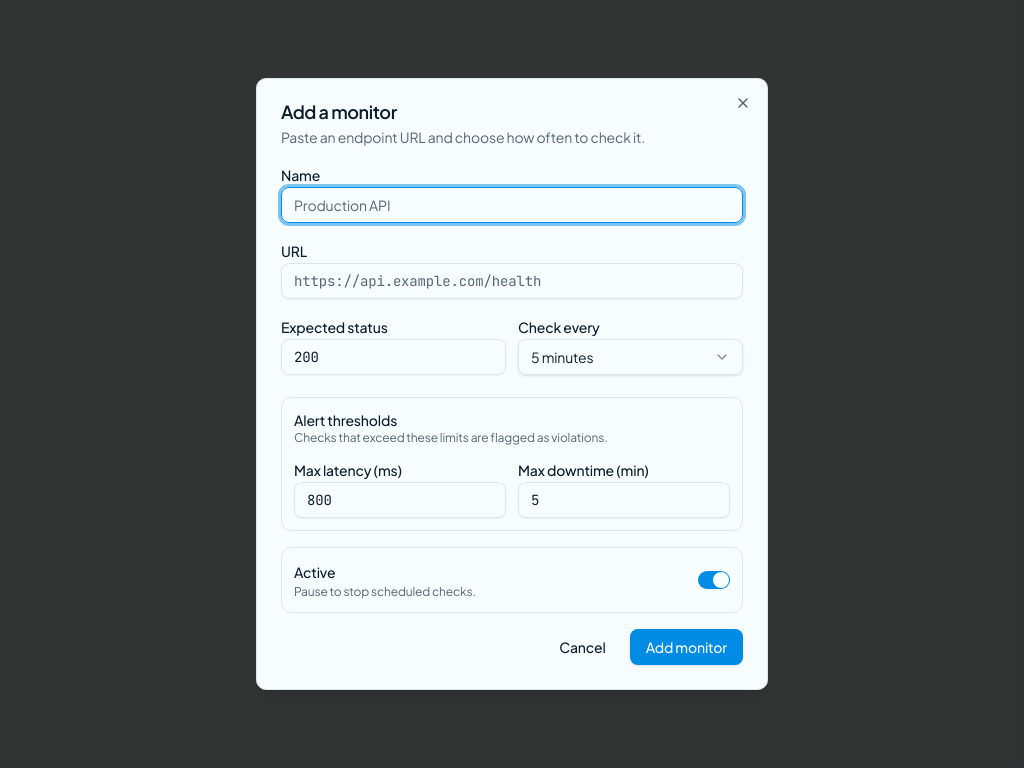
Test case: AddEditMonitorModal › shows validation error when URL is invalid
// Fill name but use an invalid URL
Type "My Monitor" into the field labelled "Name" at (512, 205), box [281,187,743,223]
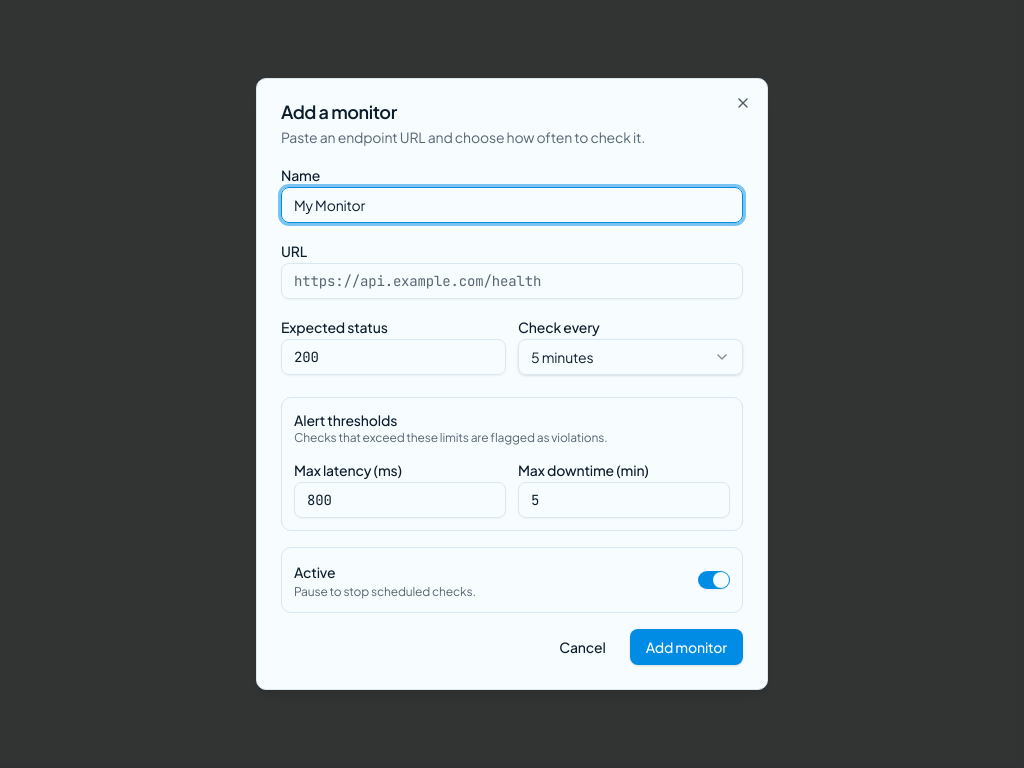
Type "not-a-valid-url" into the field labelled "URL" at (512, 281), box [281,263,743,299]
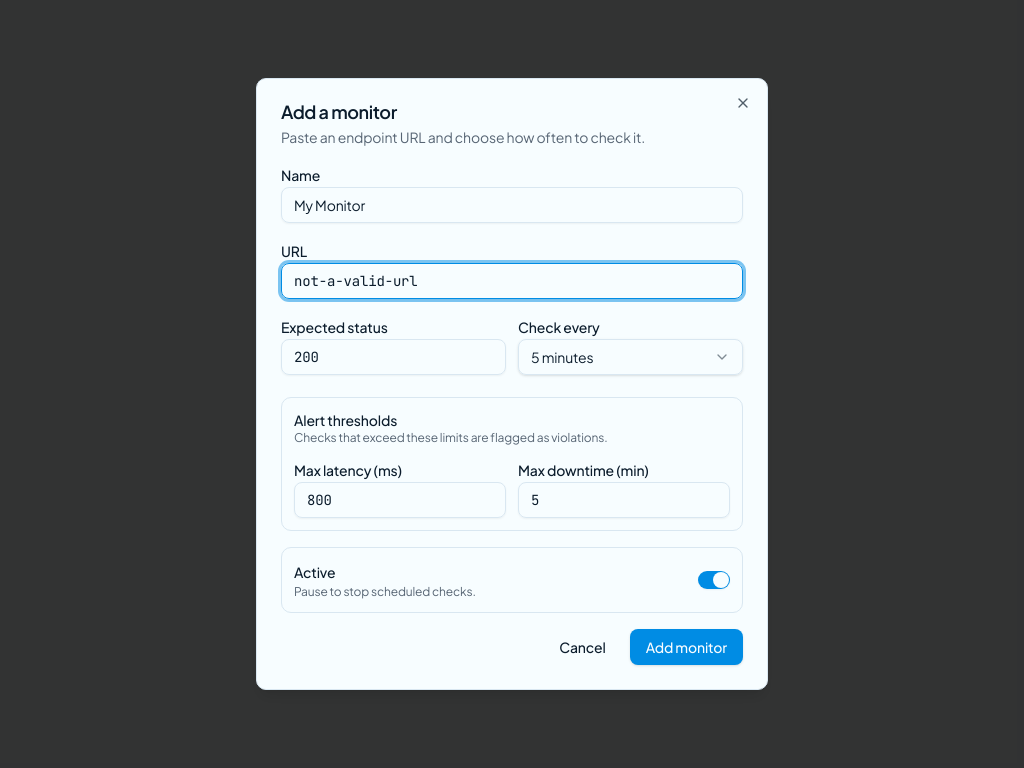
Click the button "Add monitor" at (686, 647), box [630,629,743,665]
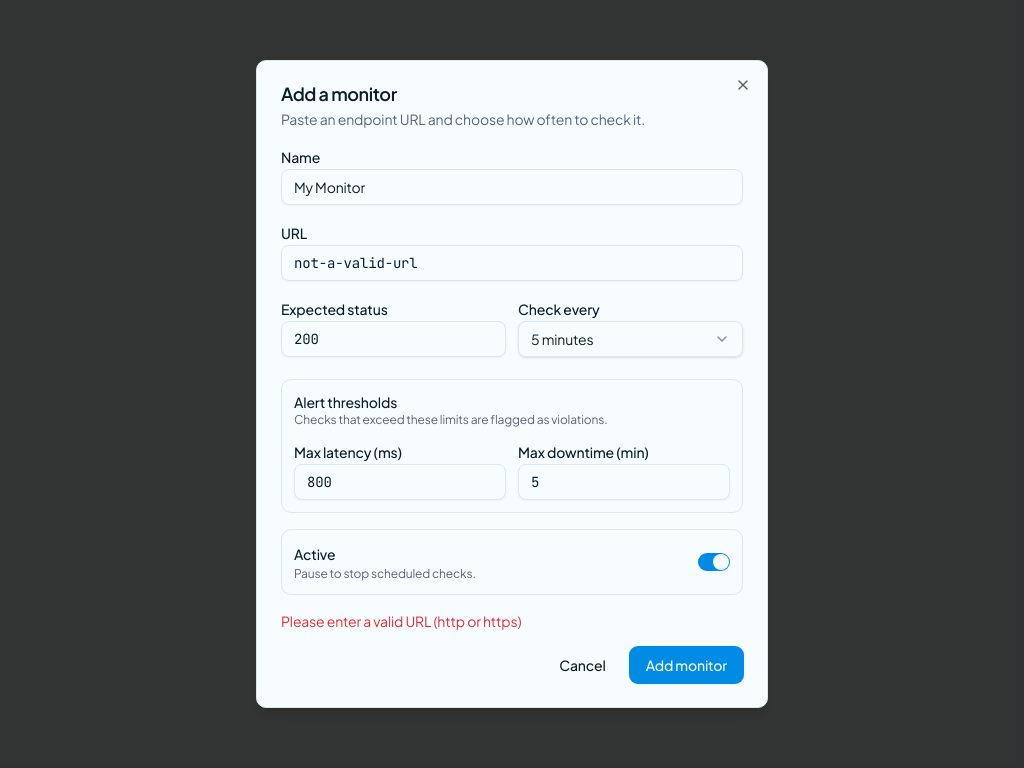
Expected: the text "Please enter a valid URL (http or https)" is shown, [281,612,522,630]
